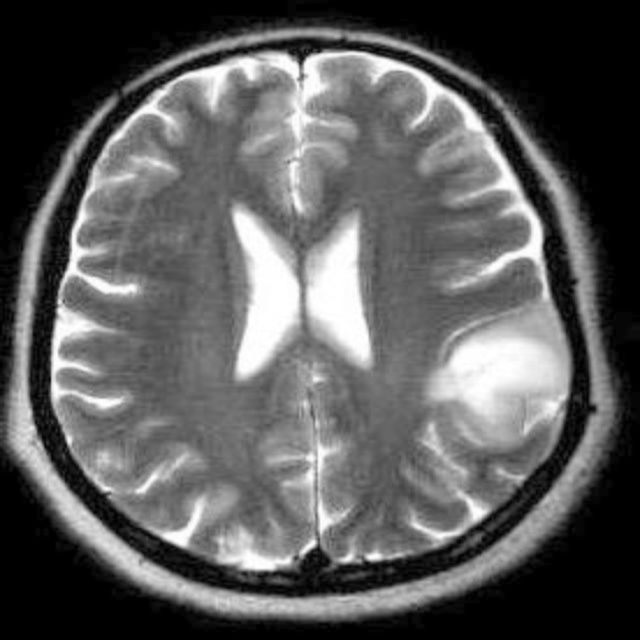glioma tumor: (98, 102, 510, 534)
